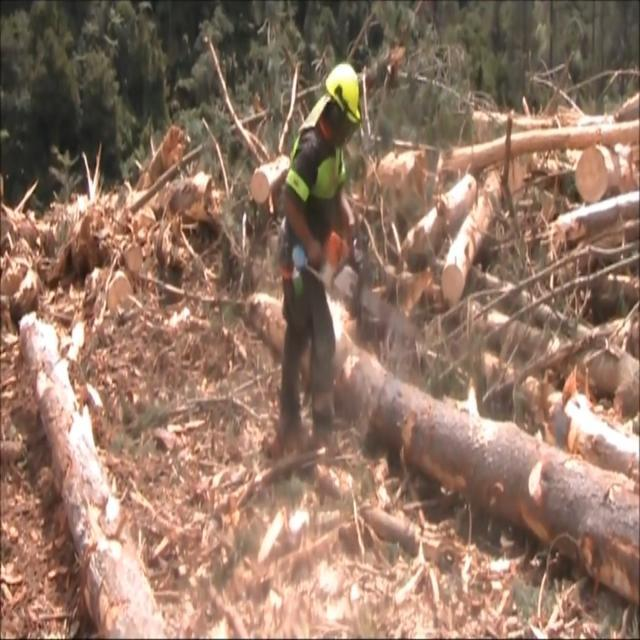Chainsaw: (280, 196, 442, 394)
